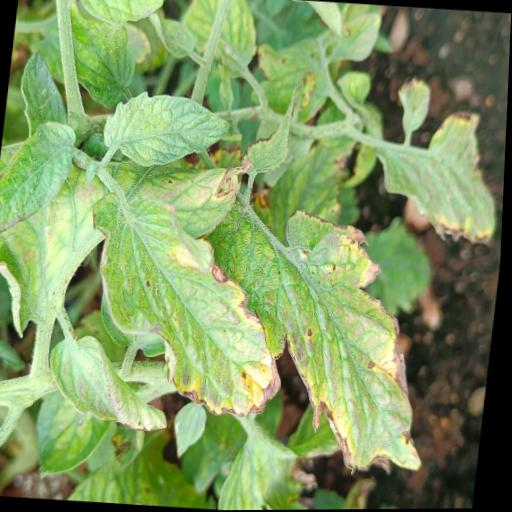Early Blight: (72, 188, 306, 423), (261, 204, 452, 480)
